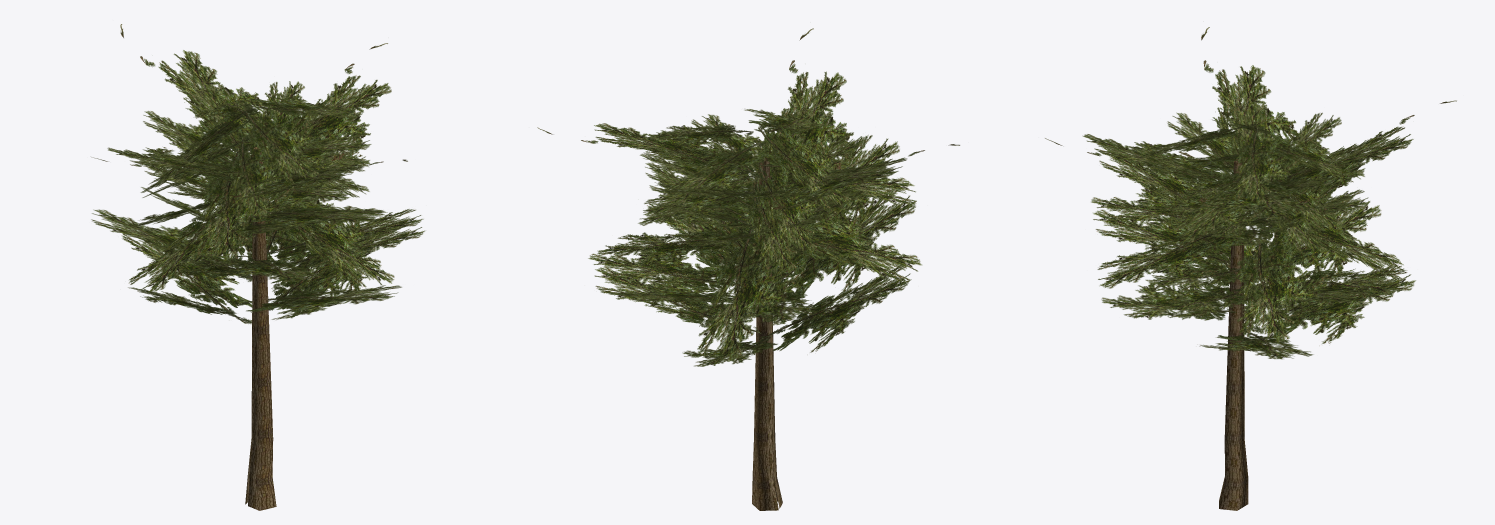
The model's file is tree_teste5.glb.
The picture shows the model from 3 angles, left to right: view 1: azimuth 30°, elevation 25°; view 2: azimuth 150°, elevation 25°; view 3: azimuth 270°, elevation 25°; orthographic projection. The views are drawn at different scales.
Visible parts, largest first — view 1: Cone, Cone.001, Tree_Pine_T1_Tree_Pine_0.001, Cone.002; view 2: Cone, Cone.001, Tree_Pine_T1_Tree_Pine_0.001, Cone.002; view 3: Cone, Cone.001, Tree_Pine_T1_Tree_Pine_0.001, Cone.002.
Part boxes in pixels (x1,y1,x2,y2): Cone: (91, 81, 424, 323); Cone.001: (95, 24, 407, 201); Tree_Pine_T1_Tree_Pine_0.001: (245, 147, 276, 510); Cone.002: (108, 24, 407, 198); Cone: (588, 108, 921, 366); Cone.001: (537, 28, 959, 212); Tree_Pine_T1_Tree_Pine_0.001: (752, 157, 782, 510); Cone.002: (546, 35, 959, 212); Cone: (1091, 102, 1415, 359); Cone.001: (1045, 27, 1456, 221); Tree_Pine_T1_Tree_Pine_0.001: (1219, 159, 1248, 510); Cone.002: (1052, 27, 1410, 221).
Bounding box in the file's own units: 12.64 × 11.98 × 12.53.
Materials: 6 (6 with a texture image).
